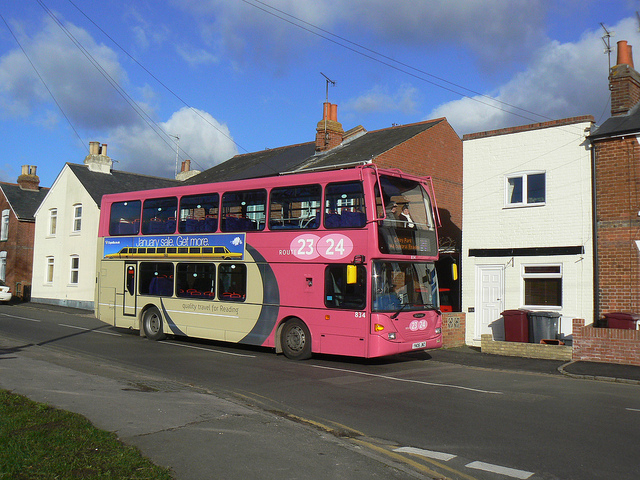Bus: (88, 166, 436, 365)
